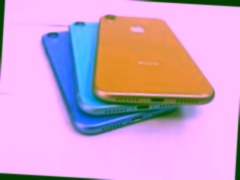iphone: (93, 15, 216, 104)
